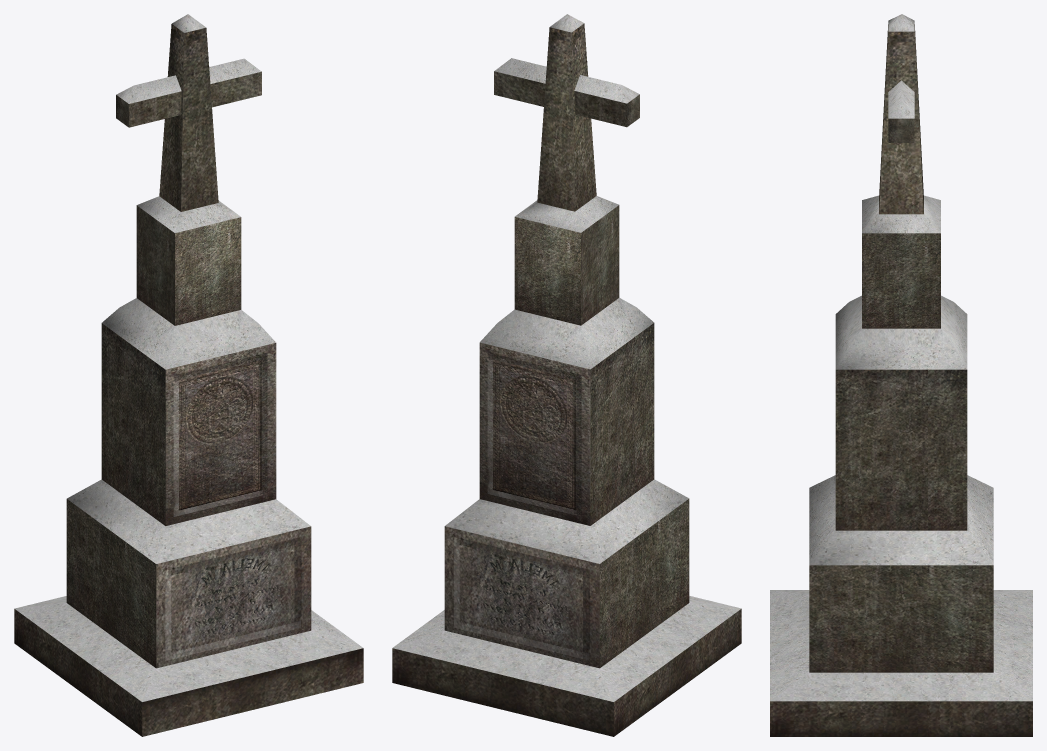
File: tombstone_lg_01_snow.fbx
3 views of the same model, side by side, from view 1: azimuth 30°, elevation 25°; view 2: azimuth 150°, elevation 25°; view 3: azimuth 270°, elevation 25° (orthographic). The views are drawn at different scales.
Visible parts, largest first — view 1: mesh_0, mesh_1, mesh_2, mesh_3, mesh_4; view 2: mesh_0, mesh_1, mesh_2, mesh_3, mesh_4; view 3: mesh_0, mesh_2, mesh_4, mesh_3.
Part boxes in pixels (left/top/right/bottom): mesh_0: left=14, top=24, right=363, bottom=736; mesh_1: left=156, top=343, right=311, bottom=668; mesh_2: left=14, top=14, right=363, bottom=701; mesh_3: left=116, top=71, right=261, bottom=127; mesh_4: left=116, top=58, right=261, bottom=103; mesh_0: left=392, top=23, right=741, bottom=736; mesh_1: left=444, top=342, right=599, bottom=668; mesh_2: left=392, top=14, right=741, bottom=701; mesh_3: left=494, top=71, right=639, bottom=127; mesh_4: left=494, top=58, right=639, bottom=103; mesh_0: left=770, top=24, right=1032, bottom=736; mesh_2: left=770, top=14, right=1032, bottom=701; mesh_4: left=888, top=80, right=914, bottom=118; mesh_3: left=888, top=118, right=914, bottom=142.
Bounding box in the file's own units: 200 × 560 × 200.
Materials: 3 (3 with a texture image).
